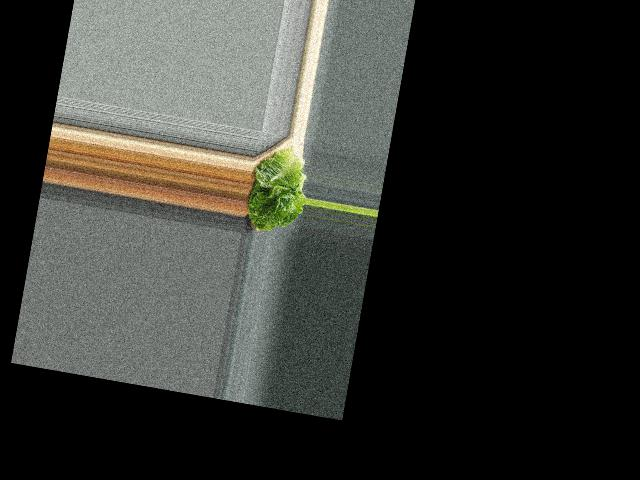lettuce: (241, 143, 313, 239)
